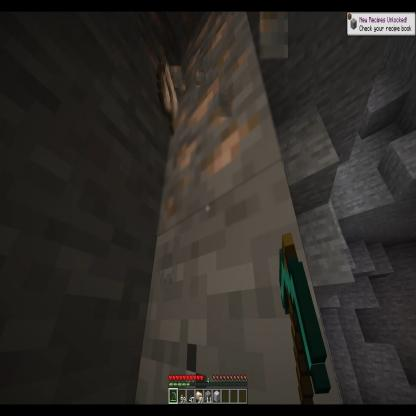iron ore: (156, 23, 284, 234), (175, 0, 252, 101), (147, 10, 180, 102)
